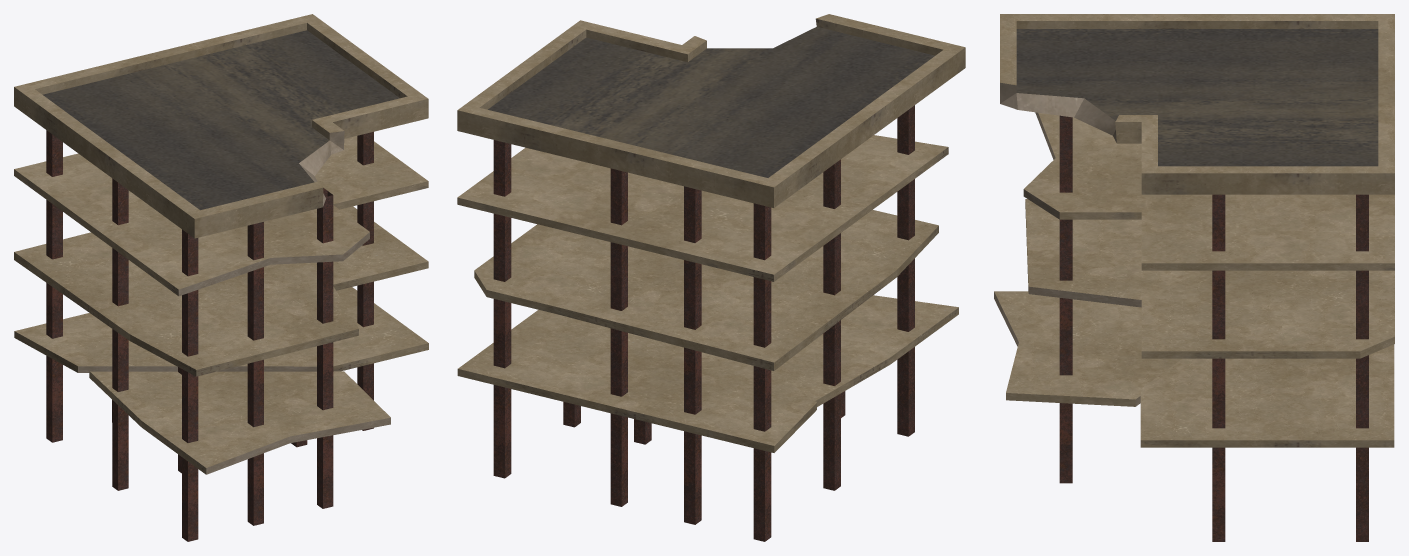
Rendered from SM_Ruin_04.FBX.
The picture shows the model from 3 angles, left to right: view 1: azimuth 30°, elevation 25°; view 2: azimuth 150°, elevation 25°; view 3: azimuth 270°, elevation 25°; orthographic projection. The views are drawn at different scales.
Visible parts, largest first — view 1: SM_Ruin_04; view 2: SM_Ruin_04; view 3: SM_Ruin_04.
Boxes of the visible parts, bbox=[...] form: SM_Ruin_04: bbox=[14, 14, 428, 541]; SM_Ruin_04: bbox=[457, 14, 965, 541]; SM_Ruin_04: bbox=[994, 14, 1394, 541].
Bounding box in the file's own units: 531 × 565 × 591.
